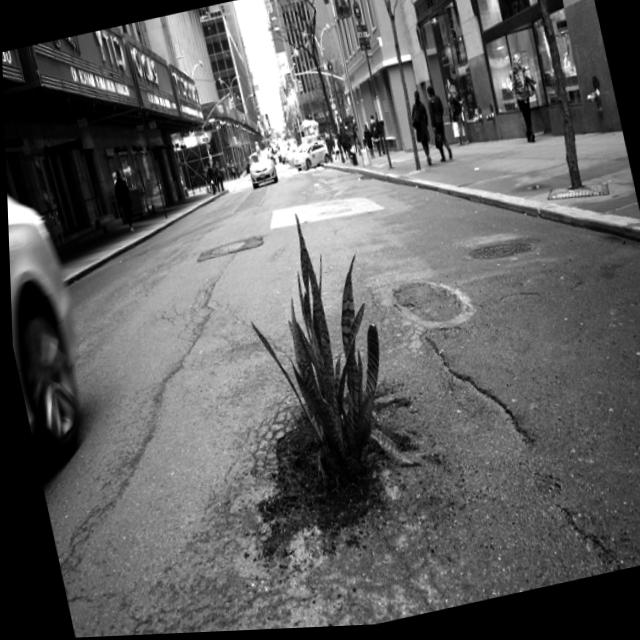pathole: (254, 417, 371, 558), (391, 286, 459, 325)
